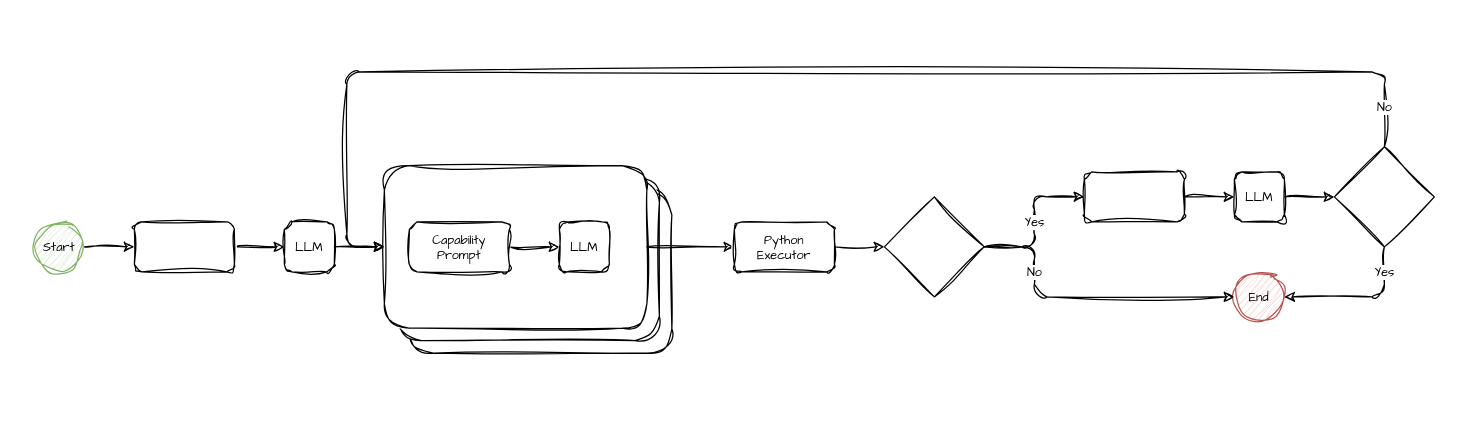
Some shapes in this 1468 by 443 pixel diagram are drawn without their labels. Here are the shapes that lost their labels. From the top down, the centre of each, then its label:
(1133,196): Review Prompt
(1383,196): Is Done?
(183,246): Reasoning Prompt
(933,246): Has Review Prompt?
